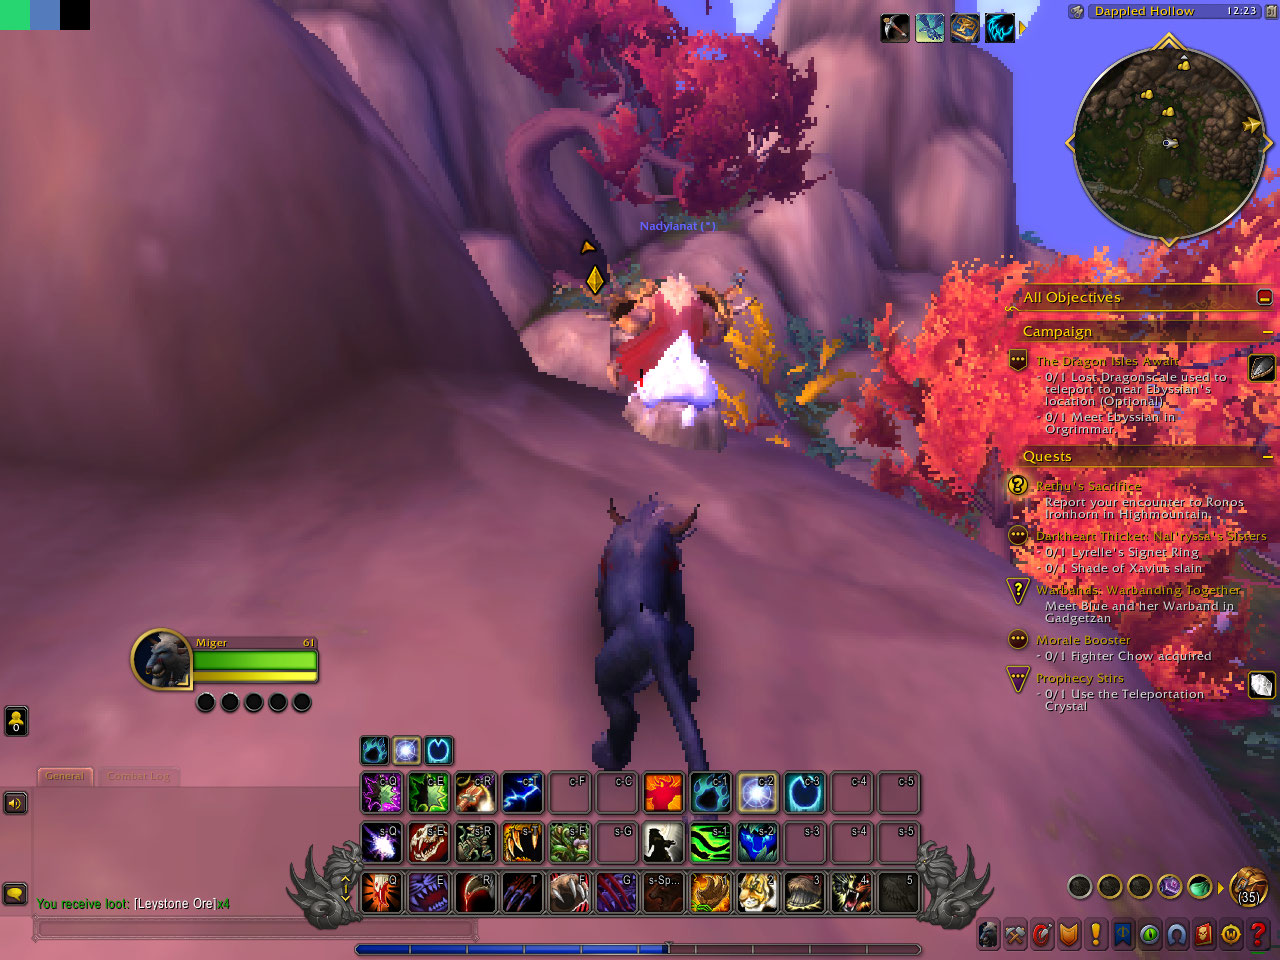ore: (616, 328, 726, 448)
